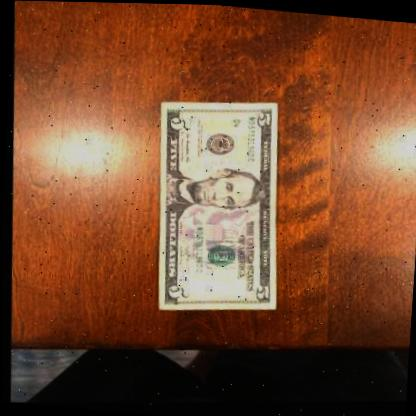five-front: (143, 93, 288, 323)
